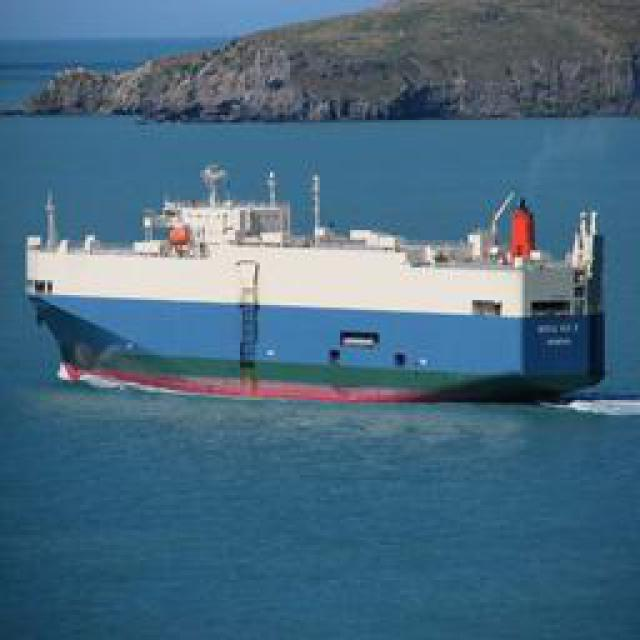Ship: (41, 188, 604, 403)
